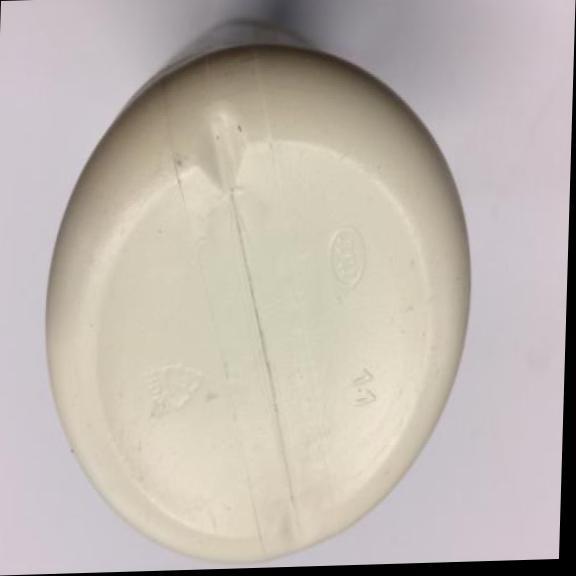Plastik: (27, 4, 481, 575)
